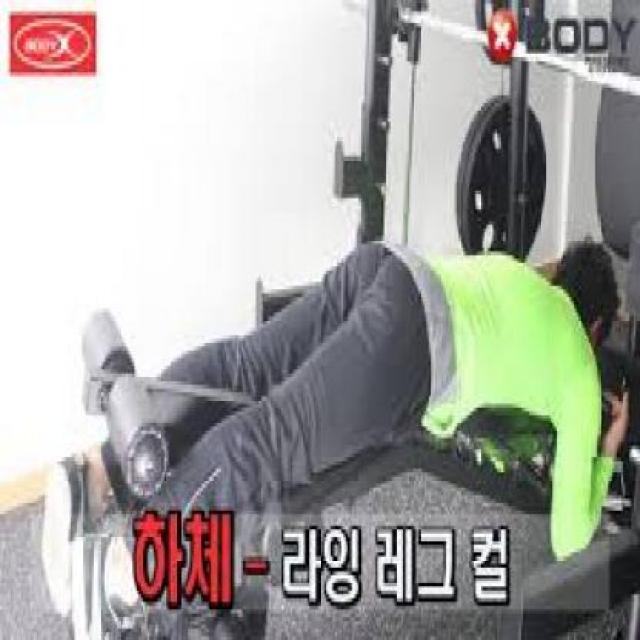reg curl machine: (34, 212, 626, 640)
